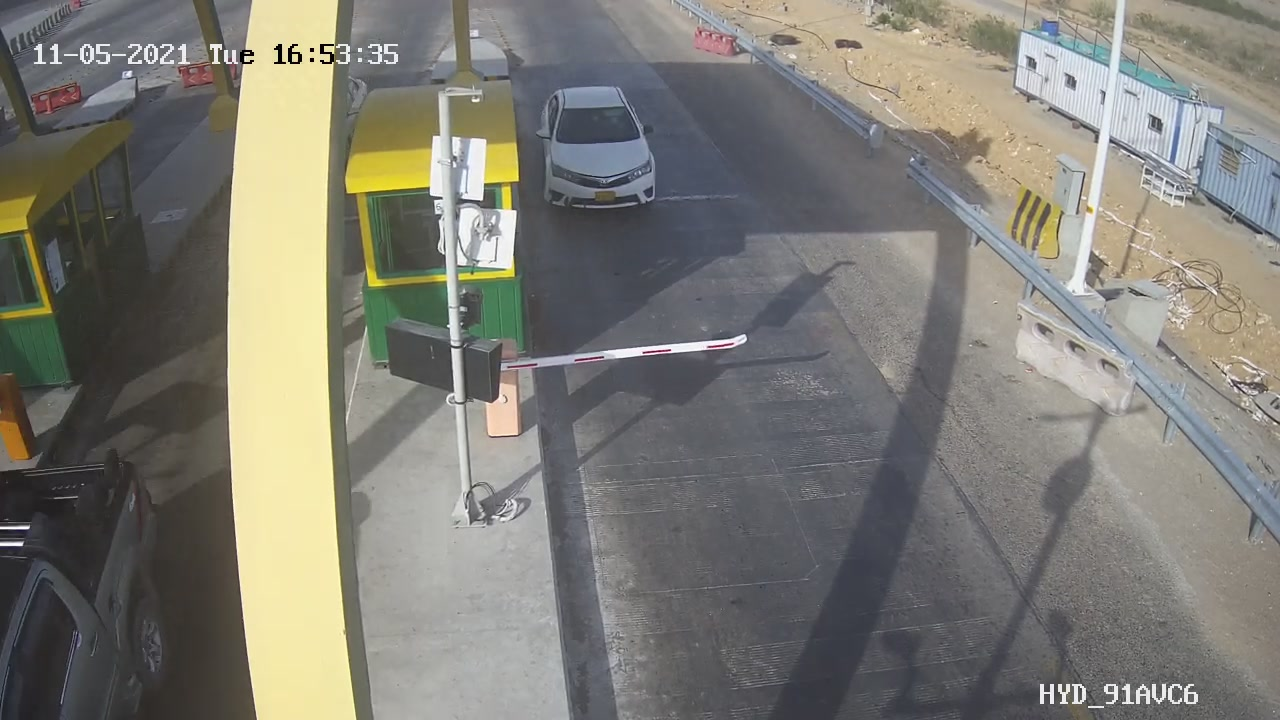F1: (521, 74, 678, 222)
